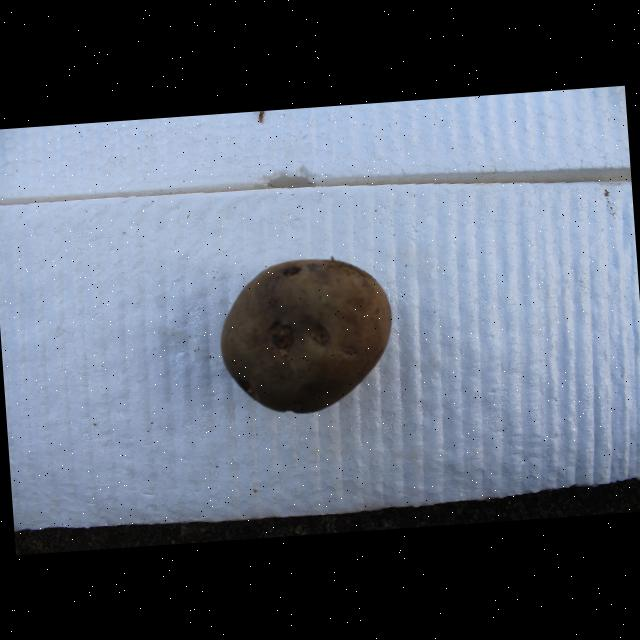Diseased-fungal potato: (240, 218, 426, 392)
